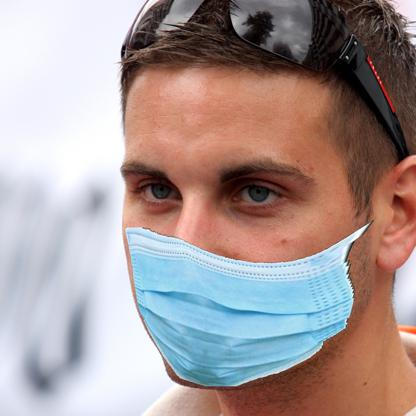mask: (124, 220, 380, 390)
